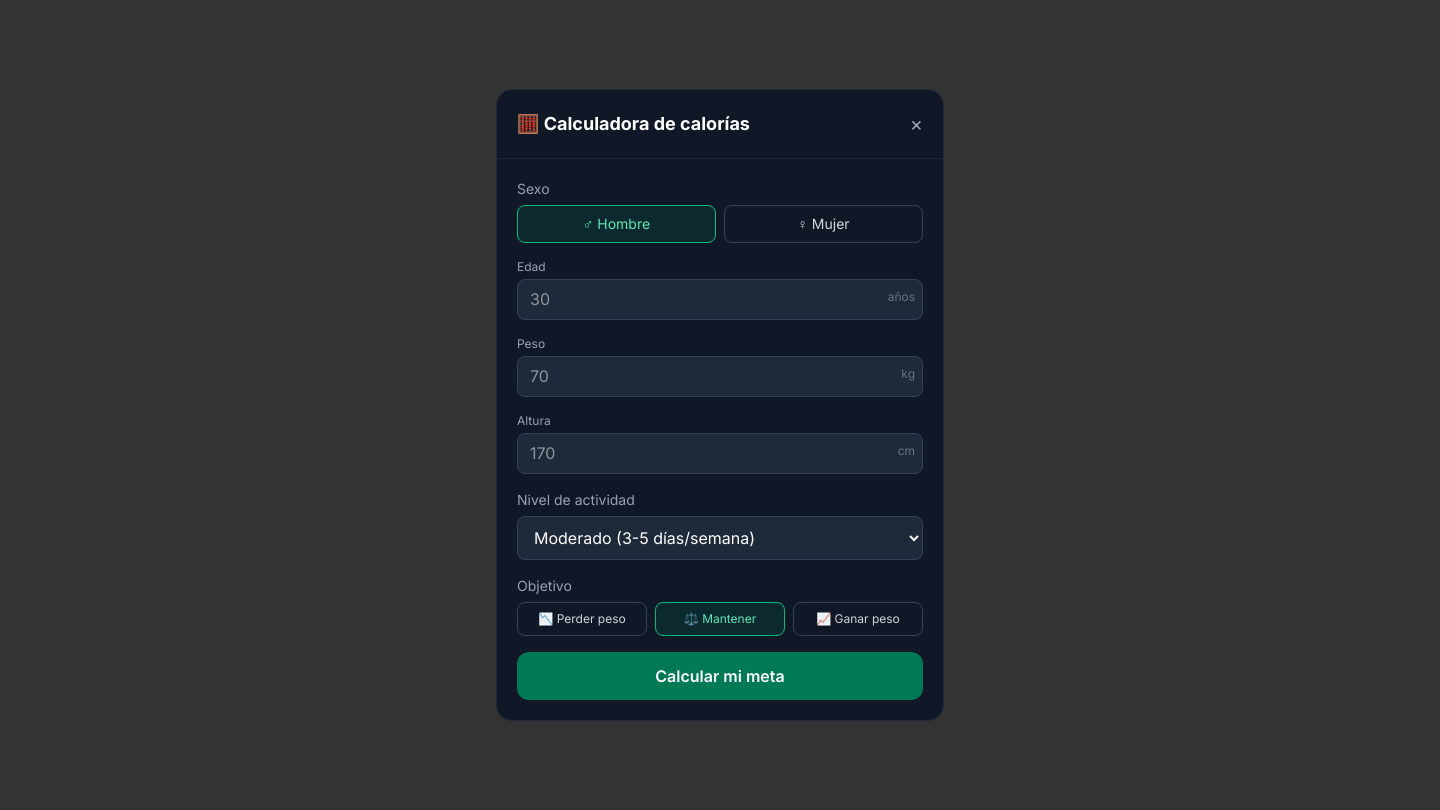
CalorieCalculator › shows validation errors when form submitted empty
Click the button "Calcular mi meta".
click(720, 676)  # box [517,652,923,700]
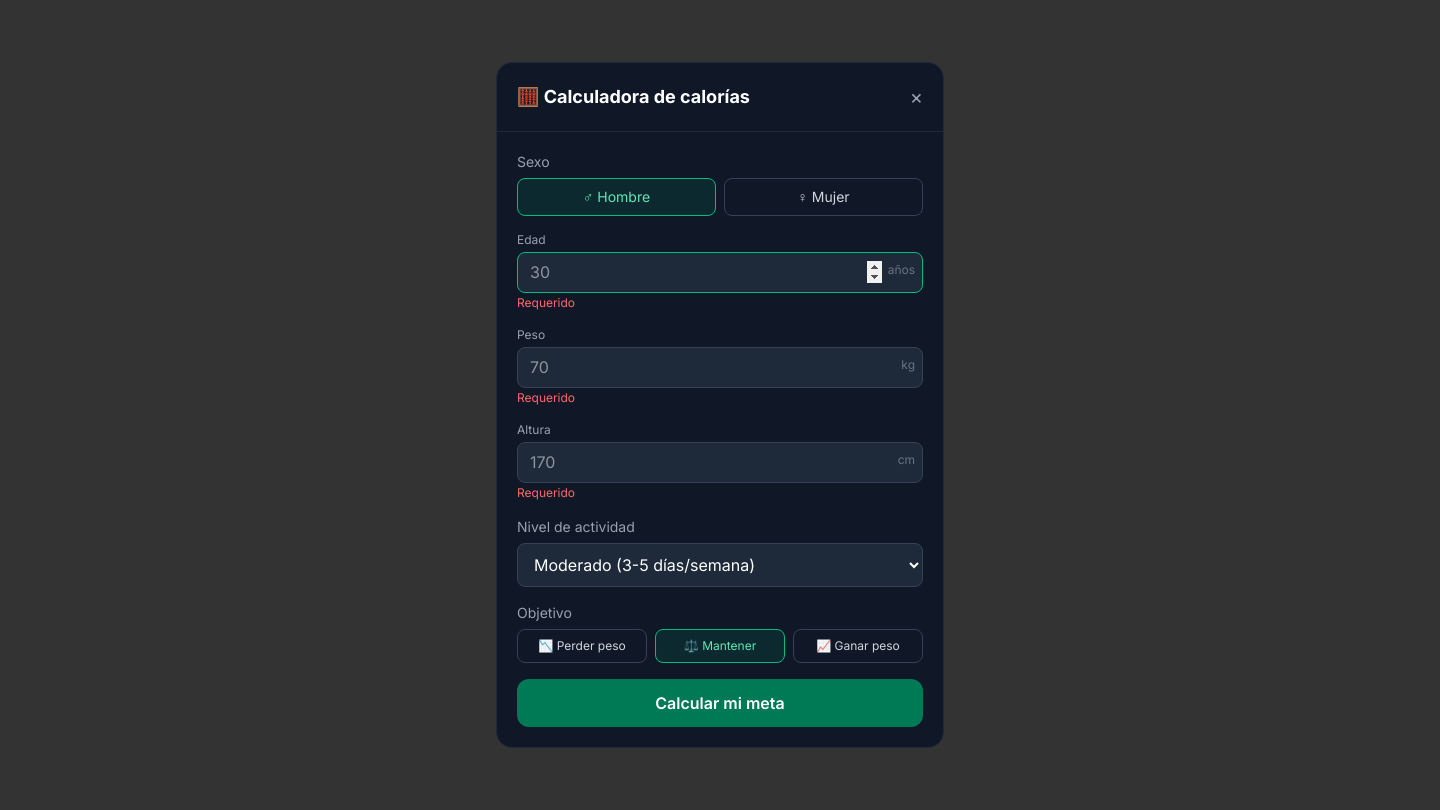
Now the text "Requerido" below "años" is shown, box [517,295,575,310]
